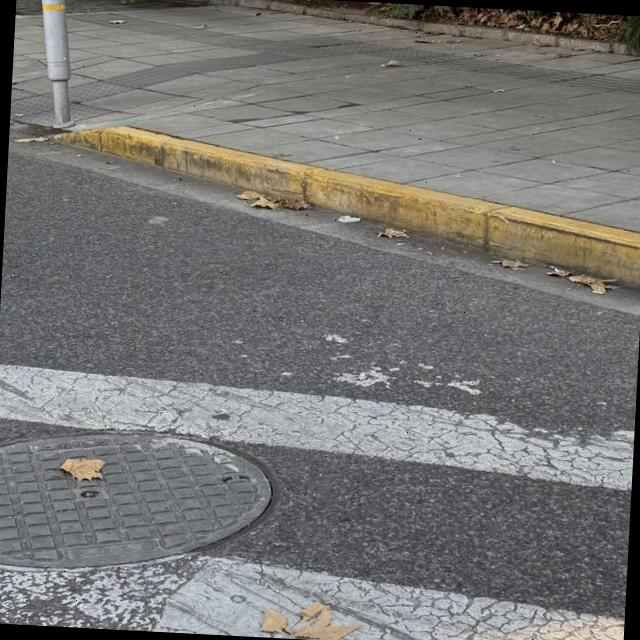curb: (57, 127, 640, 284), (178, 0, 628, 54)
